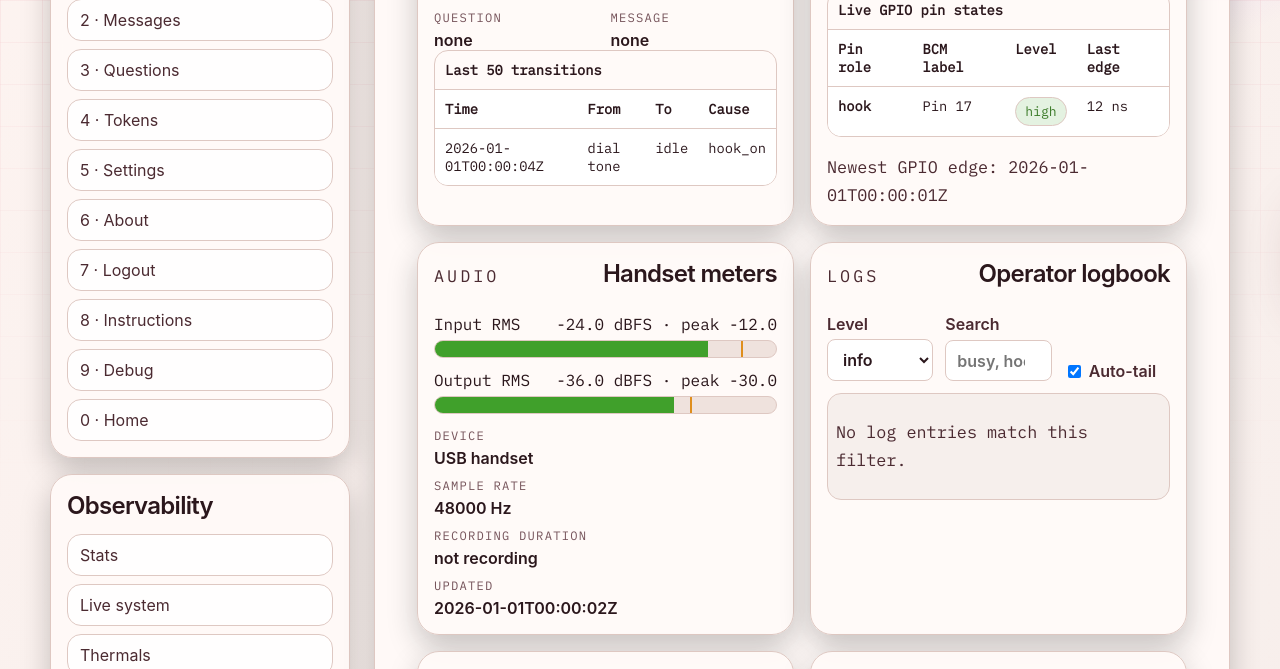
Test: DebugScreen › ignores a late log response from the previous level
The width and height of the screenshot is (1280, 669).
(page scrolled)
Select "error" in the dropdown labelled "Level" at (880, 360), box [827,339,933,381]
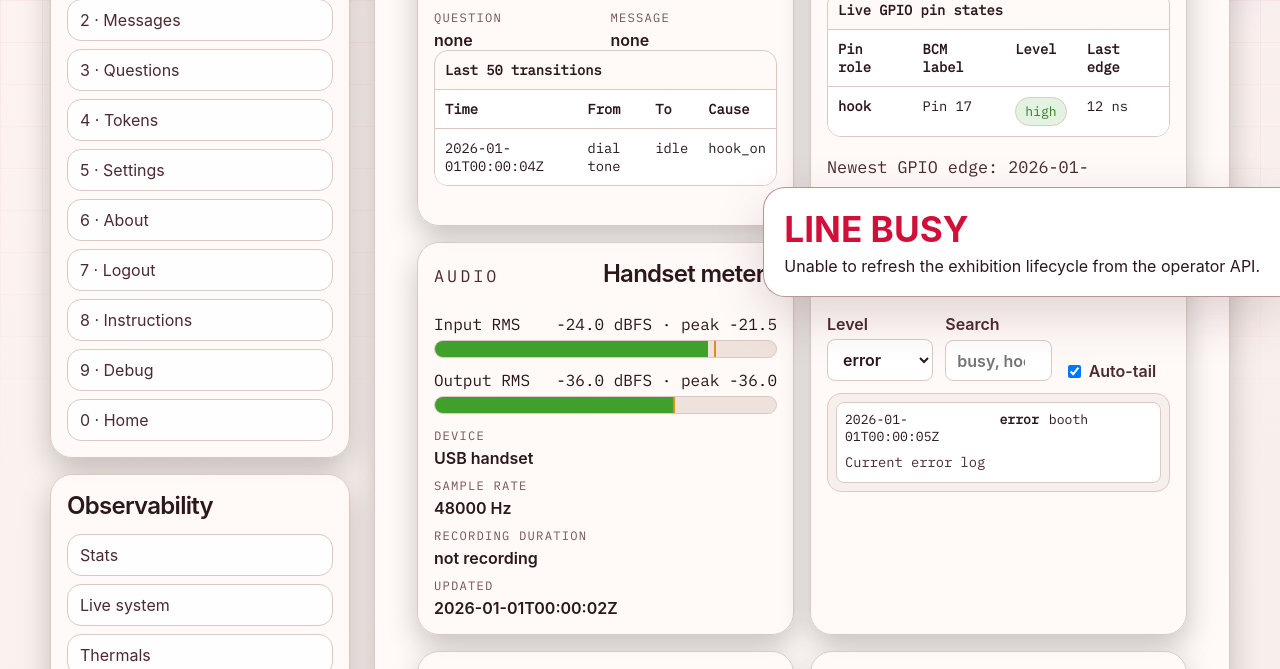
Result: the text "Current error log" is shown at [845,453,985,471]
